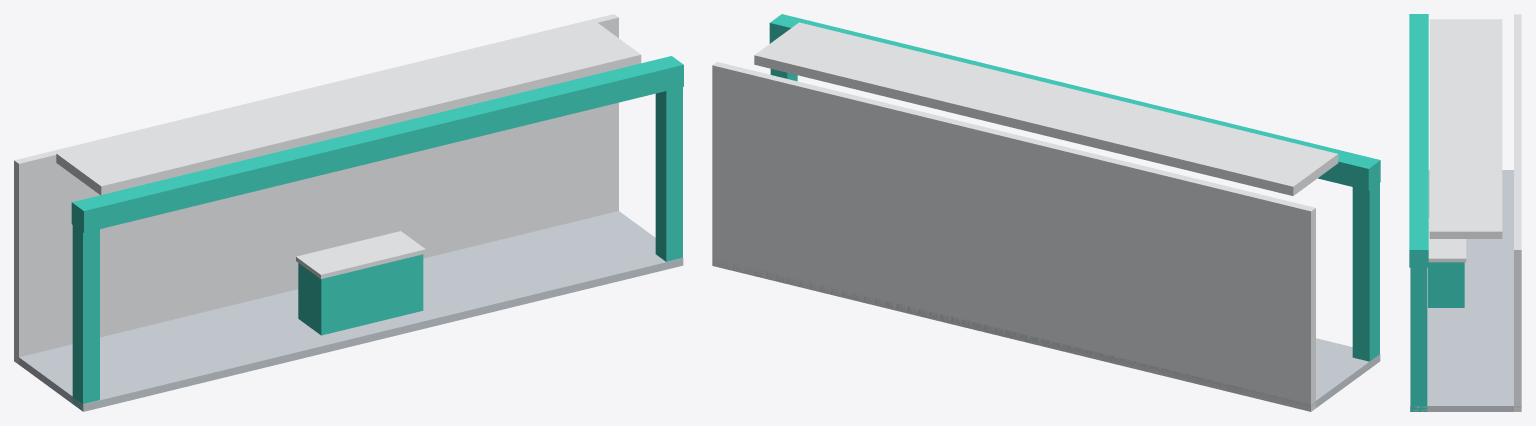
3 views of the same model, side by side, from view 1: azimuth 30°, elevation 25°; view 2: azimuth 150°, elevation 25°; view 3: azimuth 270°, elevation 25° (orthographic). The views are drawn at different scales.
Parts seen in each view (by area): view 1: Exhibition Booth Concept; view 2: Exhibition Booth Concept; view 3: Exhibition Booth Concept.
Boxes of the visible parts, x1=… form: Exhibition Booth Concept: x1=14, y1=14, x2=683, y2=411; Exhibition Booth Concept: x1=712, y1=14, x2=1380, y2=411; Exhibition Booth Concept: x1=1409, y1=14, x2=1521, y2=411.
Size of the model in its own units: 10 by 3.34 by 2.01.
